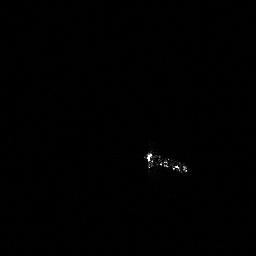ship: (141, 146, 193, 178)
